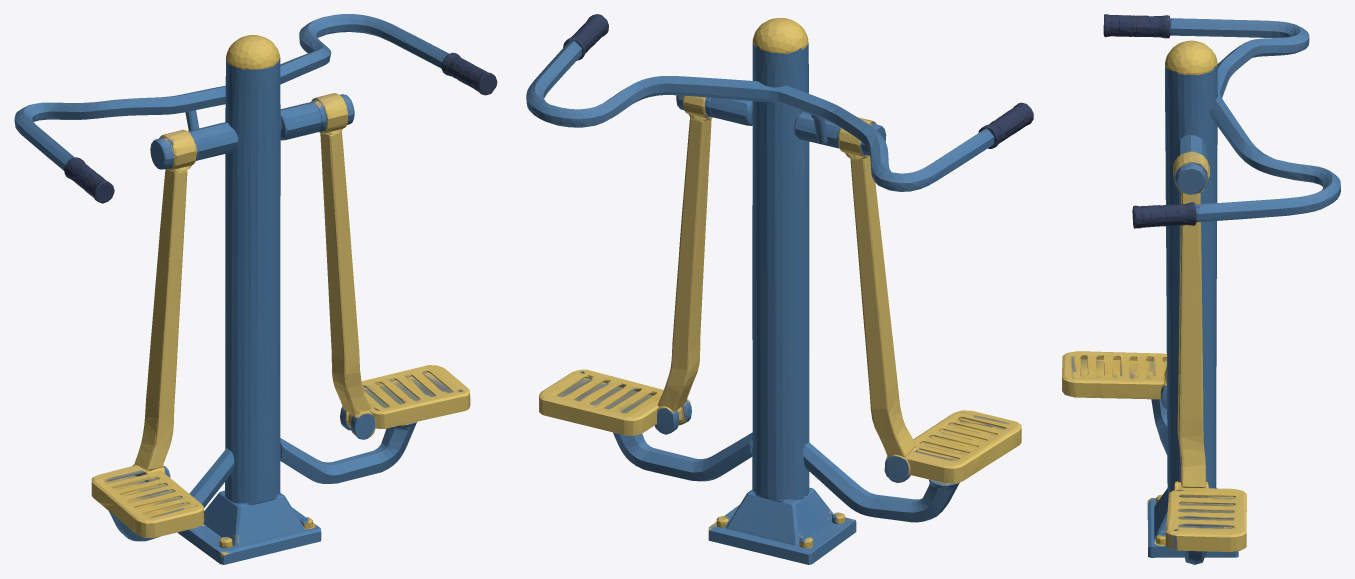
The model's file is exercise_machine.glb.
3 renders of one model, left to right at view 1: azimuth 30°, elevation 25°; view 2: azimuth 150°, elevation 25°; view 3: azimuth 270°, elevation 25°, orthographic. The views are drawn at different scales.
Parts seen in each view (by area): view 1: exercise_machine; view 2: exercise_machine; view 3: exercise_machine.
Boxes of the visible parts, x1,y1,x2,y2 form: exercise_machine: [14, 14, 497, 564]; exercise_machine: [526, 14, 1033, 564]; exercise_machine: [1062, 14, 1340, 564].
Bounding box in the file's own units: 1.4 × 1.6 × 0.8235.
Materials: 1 (1 with a texture image).
